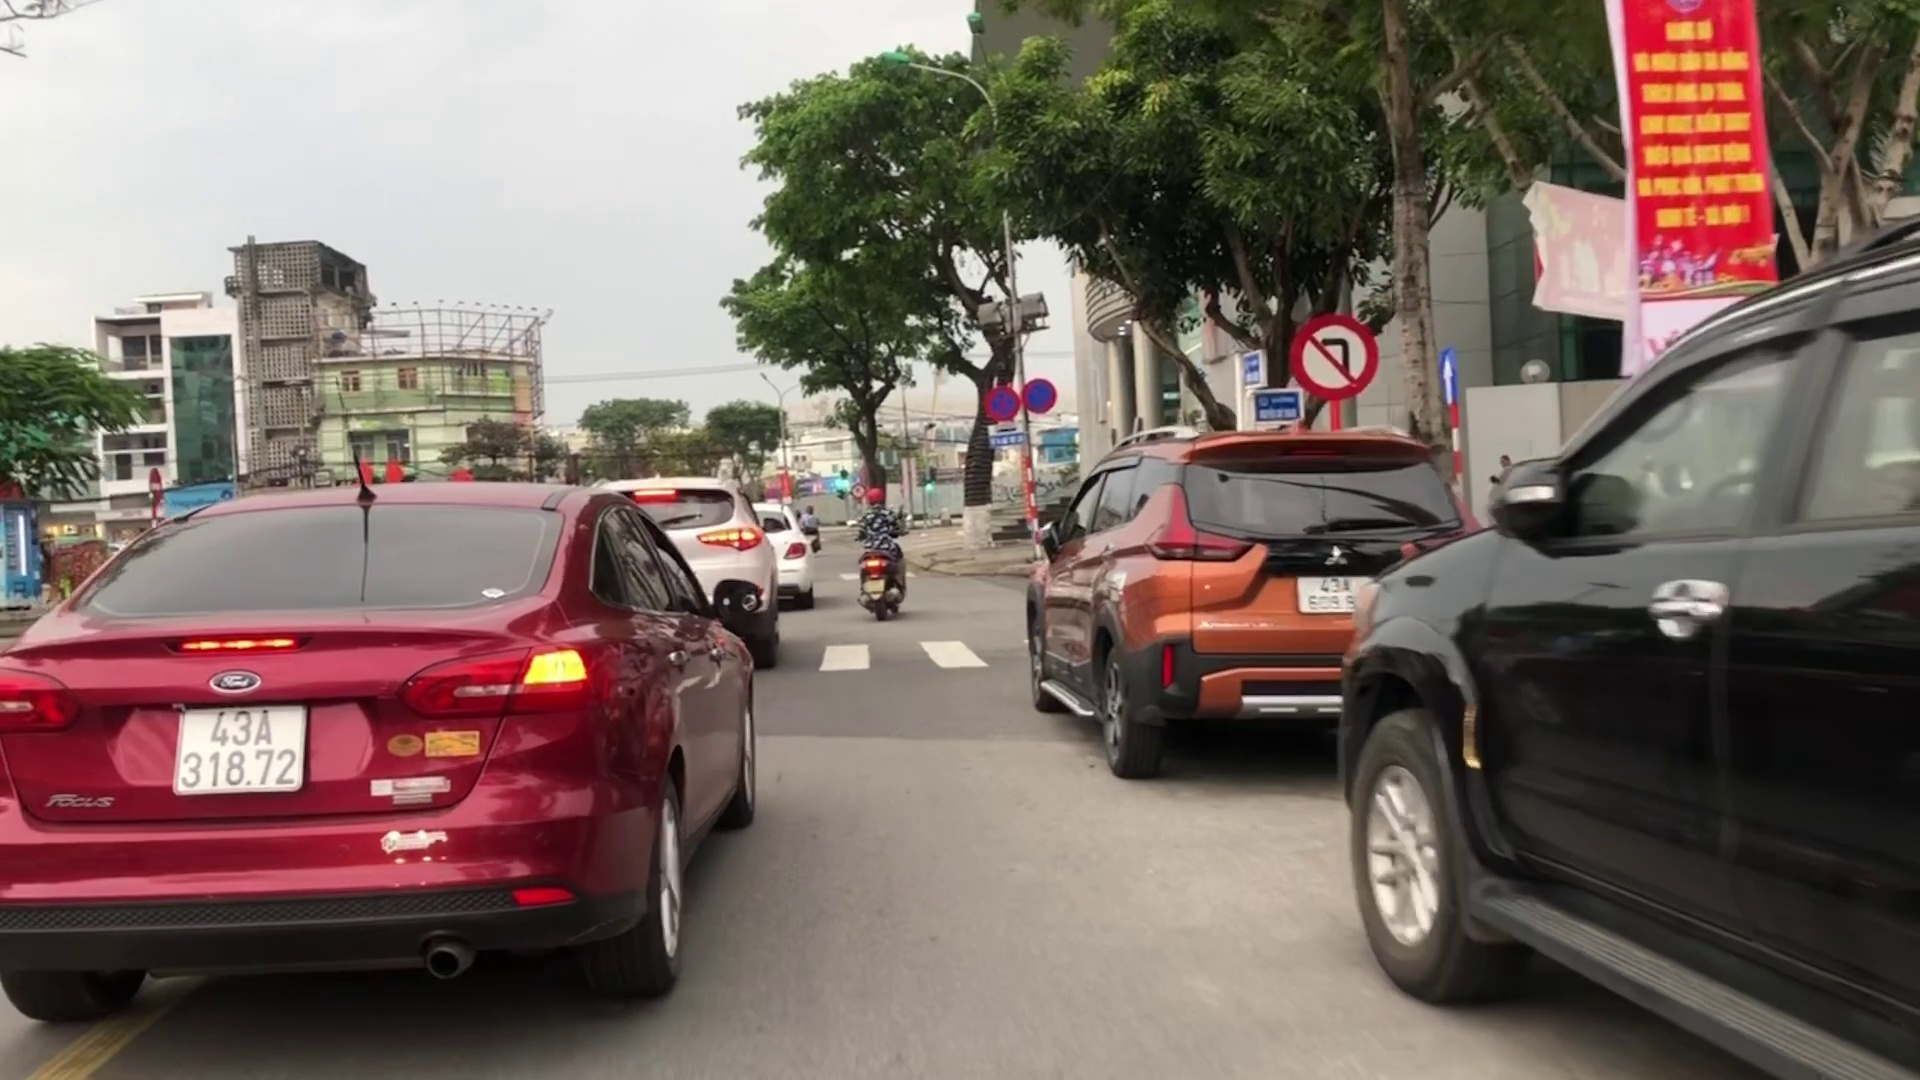Bien khac: (1291, 309, 1371, 397), (981, 382, 1017, 422)
Cam do xe: (1021, 377, 1058, 414)
